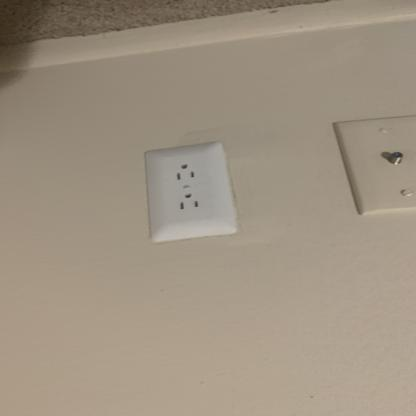OUTLET: (149, 145, 229, 243)
